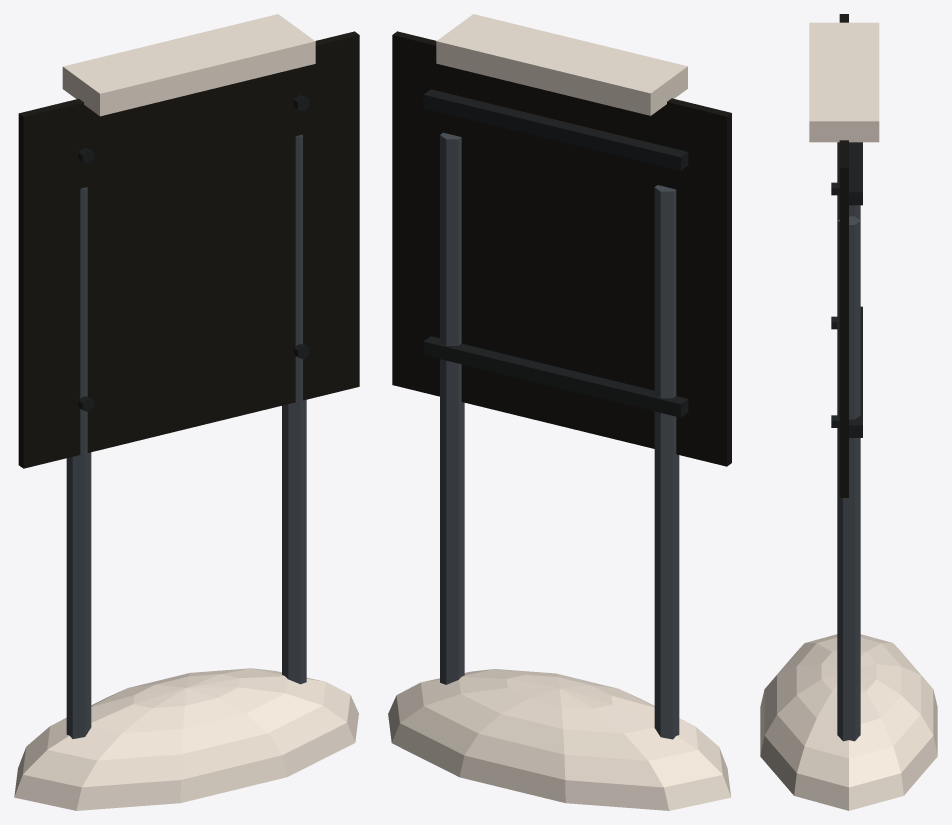
The model's file is rs_warning_sign.glb.
3 renders of one model, left to right at view 1: azimuth 30°, elevation 25°; view 2: azimuth 150°, elevation 25°; view 3: azimuth 270°, elevation 25°, orthographic. The views are drawn at different scales.
Visible parts, largest first — view 1: sign; view 2: sign; view 3: sign.
Part boxes in pixels (<box>): sign: <box>14,14,359,810</box>; sign: <box>388,14,731,810</box>; sign: <box>760,14,937,810</box>.
Size of the model in its own units: 1.6 by 3.12 by 0.7608.
